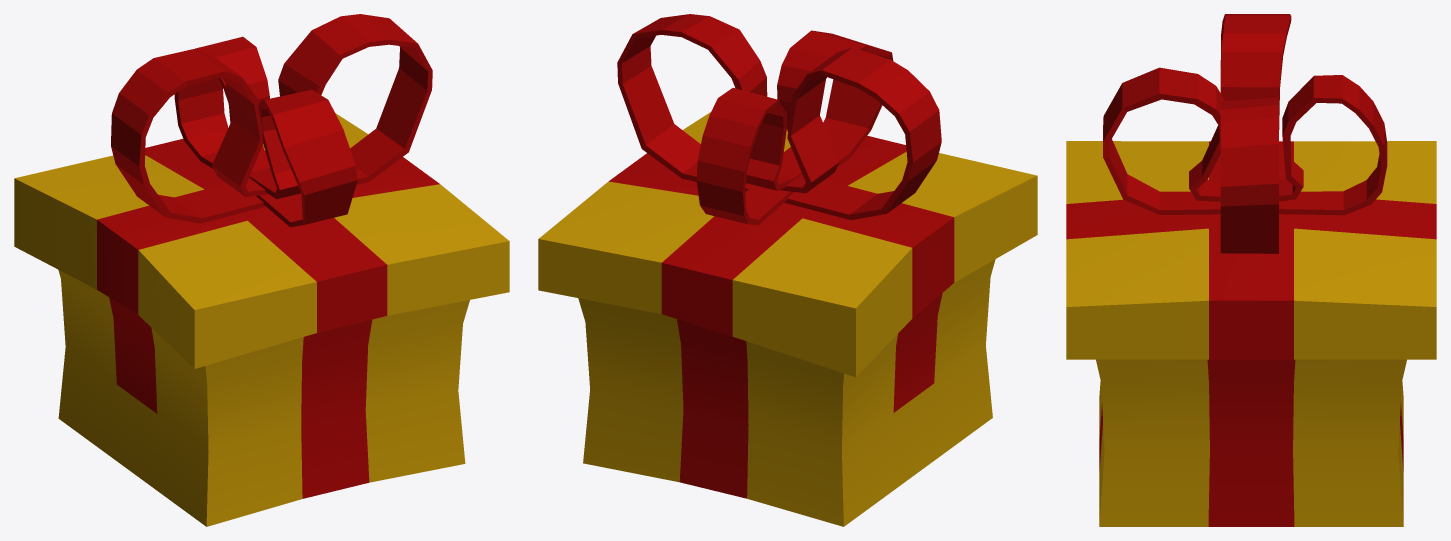
The model's file is Gift_Regular.fbx.
The picture shows the model from 3 angles, left to right: view 1: azimuth 30°, elevation 25°; view 2: azimuth 150°, elevation 25°; view 3: azimuth 270°, elevation 25°; orthographic projection. The views are drawn at different scales.
Parts seen in each view (by area): view 1: Gift_Regular; view 2: Gift_Regular; view 3: Gift_Regular.
Boxes of the visible parts, x1,y1,x2,y2 form: Gift_Regular: [14, 14, 509, 526]; Gift_Regular: [538, 14, 1037, 526]; Gift_Regular: [1066, 14, 1436, 526].
Size of the model in its own units: 0.6091 by 0.7253 by 0.6034.
